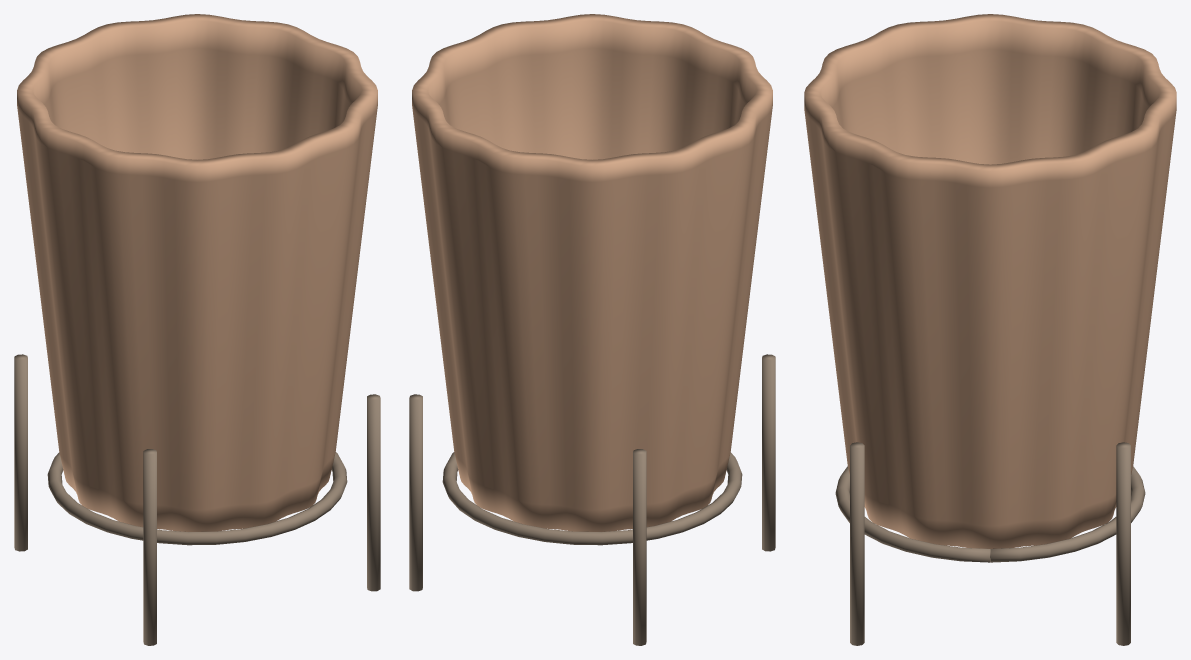
Rendered from tall_planter.glb.
The picture shows the model from 3 angles, left to right: view 1: azimuth 30°, elevation 25°; view 2: azimuth 150°, elevation 25°; view 3: azimuth 270°, elevation 25°; orthographic projection. The views are drawn at different scales.
Visible parts, largest first — view 1: tall_planter__body, tall_planter__accent; view 2: tall_planter__body, tall_planter__accent; view 3: tall_planter__body, tall_planter__accent.
Part boxes in pixels (bbox=[...]): tall_planter__body: bbox=[17, 14, 377, 531]; tall_planter__accent: bbox=[14, 354, 380, 645]; tall_planter__body: bbox=[412, 14, 772, 531]; tall_planter__accent: bbox=[409, 354, 775, 645]; tall_planter__body: bbox=[804, 14, 1176, 548]; tall_planter__accent: bbox=[835, 442, 1145, 645].
Size of the model in its own units: 0.3075 by 0.45 by 0.3075.
